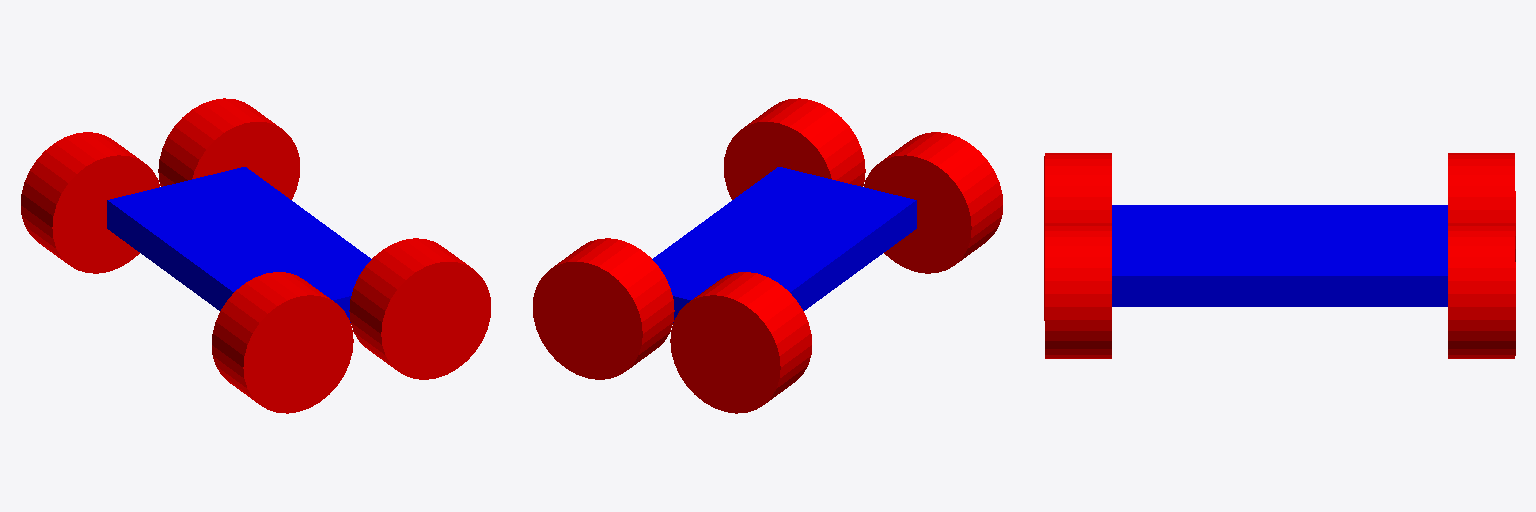
The robot description file, URDF, robot "wheeled_bot":
<?xml version="1.0"?>
<robot name="wheeled_bot">
	<material name="blue">
		<color rgba="0 0 1 1"/>
	</material>
	<material name="red">
		<color rgba="1 0 0 1"/>
	</material>
	<gazebo reference="base_link">
  		<material>Gazebo/Blue</material>
	</gazebo>
	<gazebo reference="forewheel1_link">
  		<material>Gazebo/Red</material>
	</gazebo>
	<gazebo reference="forewheel2_link">
  		<material>Gazebo/Red</material>
	</gazebo>
	<gazebo reference="backwheel1_link">
  		<material>Gazebo/Red</material>
	</gazebo>
	<gazebo reference="backwheel2_link">
 		 <material>Gazebo/Red</material>
	</gazebo>
	<link name="base_link">
		<visual>
		<geometry>
			<box size="0.5 1 0.1"/>
		</geometry>
		<origin rpy="0 0 0" xyz="0 0 0"/>
		<material name="blue"/>
		</visual>
		<collision>
		<geometry>
			<box size="0.5 1 0.1"/>
		</geometry>
		<material name="blue"/>
		</collision>
		 <inertial>
      			<mass value="5"/>
      			<inertia ixx="0.0395416666667" ixy="0" ixz="0" iyy="0.106208333333" iyz="0" izz="0.106208333333"/>
    		</inertial>
		
	</link>
	
	<link name="forewheel1_link">
		<visual>
		<geometry>
			<cylinder length="0.2" radius="0.2"/>
		</geometry>
		<material name="red"/>
		<origin xyz="0 0 0" rpy="1.57 1.57 0" />
		</visual>
		<collision>
		<geometry>
			<cylinder length="0.2" radius="0.2"/>
		</geometry>
		<material name="red"/>
		<origin xyz="0 0 0" rpy="1.57 1.57 0" />
		</collision>
		<inertial>
			<mass value="0.2"/>
			<inertia ixx="0.1333" ixy="0.0" ixz="0.0" iyy="0.1333" iyz="0.0" izz="0.2"/>
		</inertial>
	</link>
	
	<link name="forewheel2_link">
		<visual>
		<geometry>
			<cylinder length="0.2" radius="0.2"/>
		</geometry>
		<material name="red"/>
		<origin xyz="0 0 0" rpy="1.57 1.57 0" />
		</visual>
		<collision>
		<geometry>
			<cylinder length="0.2" radius="0.2"/>
		</geometry>
		<material name="red"/>
		<origin xyz="0 0 0" rpy="1.57 1.57 0" />
		</collision>
		<inertial>
			<mass value="0.2"/>
			<inertia ixx="0.1333" ixy="0.0" ixz="0.0" iyy="0.1333" iyz="0.0" izz="0.2"/>
		</inertial>
	</link>

	<link name="backwheel1_link">
		<visual>
		<geometry>
			<cylinder length="0.2" radius="0.2"/>
		</geometry>
		<material name="red"/>
		<origin xyz="0 0 0" rpy="1.57 1.57 0" />
		</visual>
		<collision>
		<geometry>
			<cylinder length="0.2" radius="0.2"/>
		</geometry>
		<material name="red"/>
		<origin xyz="0 0 0" rpy="1.57 1.57 0" />
		</collision>
		<inertial>
			<mass value="0.2"/>
			<inertia ixx="0.1333" ixy="0.0" ixz="0.0" iyy="0.1333" iyz="0.0" izz="0.2"/>
		</inertial>
	</link>

	<link name="backwheel2_link">
		<visual>
		<geometry>
			<cylinder length="0.2" radius="0.2"/>
		</geometry>
		<material name="red"/>
		<origin xyz="0 0 0" rpy="1.57 1.57 0" />
		</visual>
		<collision>
		<geometry>
			<cylinder length="0.2" radius="0.2"/>
		</geometry>
		<material name="red"/>
		<origin xyz="0 0 0" rpy="1.57 1.57 0" />
		</collision>
		<inertial>
			<mass value="0.2"/>
			<inertia ixx="0.1333" ixy="0.0" ixz="0.0" iyy="0.1333" iyz="0.0" izz="0.2"/>
		</inertial>
	</link>

	<joint name="basetof1" type="continuous">
		<parent link="base_link"/>
		<child link="forewheel1_link"/>
		<axis xyz="0 1 0" rpy="0 0 0"/>
		<origin xyz="-0.25 -0.6 0" rpy="0 0 0"/>
		<limit effort="10000" velocity="1000"/>
		<joint_properties damping="1.0" friction="1.0" />
	</joint>
	<joint name="basetof2" type="continuous">
		<parent link="base_link"/>
		<child link="forewheel2_link"/>
		<axis xyz="0 1 0" rpy="0 0 0"/>
		<origin xyz="0.25 -0.6 0" rpy="0 0 0"/>
		<limit effort="10000" velocity="1000"/>
		<joint_properties damping="1.0" friction="1.0" />
	</joint>
	<joint name="basetor1" type="continuous">
		<parent link="base_link"/>
		<child link="backwheel1_link"/>
		<axis xyz="0 1 0" rpy="0 0 0"/>
		<origin xyz="0.25 0.6 0" rpy="0 0 0"/>
		<limit effort="10000" velocity="1000"/>
		<joint_properties damping="1.0" friction="1.0" />
	</joint>
	<joint name="basetor2" type="continuous">
		<parent link="base_link"/>
		<child link="backwheel2_link"/>
		<axis xyz="0 1 0" rpy="0 0 0"/>
		<limit effort="10000" velocity="1000"/>
		<origin xyz="-0.25 0.6 0" rpy="0 0 0"/>
		<joint_properties damping="1.0" friction="1.0" />
	</joint>

<gazebo>
    <plugin filename="libgazebo_ros_diff_drive.so" name="differential_drive_controller">
      <alwaysOn>true</alwaysOn>
      <updateRate>20</updateRate>
      <leftJoint>basetor1</leftJoint>
      <rightJoint>basetof1</rightJoint>
      <leftJoint>basetor2</leftJoint>
      <rightJoint>basetof2</rightJoint>
      <wheelSeparation>1.2</wheelSeparation>
      <wheelDiameter>0.4</wheelDiameter>
      <torque>0.1</torque>
      <commandTopic>cmd_vel</commandTopic>
      <odometryTopic>odom</odometryTopic>
      <odometryFrame>odom</odometryFrame>
      <robotBaseFrame>base_link</robotBaseFrame>
    </plugin>
  </gazebo>
</robot>

--- Render facts (derived) ---
The picture shows the robot from 3 angles, left to right: view 1: azimuth 30°, elevation 25°; view 2: azimuth 150°, elevation 25°; view 3: azimuth 270°, elevation 25°; orthographic projection.
Robot: wheeled_bot — 5 links, 4 joints (4 continuous); root link base_link; default pose: every joint at zero.
Links seen in each view (by area): view 1: base_link, forewheel1_link, forewheel2_link, backwheel2_link, backwheel1_link; view 2: base_link, backwheel2_link, backwheel1_link, forewheel1_link, forewheel2_link; view 3: base_link, forewheel2_link, backwheel1_link, forewheel1_link, backwheel2_link.
Link boxes in pixels (x1,y1,x2,y2): base_link: [107, 167, 371, 322]; forewheel1_link: [212, 272, 353, 413]; forewheel2_link: [349, 238, 490, 379]; backwheel2_link: [21, 132, 159, 273]; backwheel1_link: [158, 98, 299, 199]; base_link: [652, 167, 916, 322]; backwheel2_link: [670, 272, 811, 413]; backwheel1_link: [533, 238, 674, 379]; forewheel1_link: [864, 132, 1002, 273]; forewheel2_link: [724, 98, 865, 199]; base_link: [1112, 205, 1447, 306]; forewheel2_link: [1044, 224, 1111, 358]; backwheel1_link: [1448, 224, 1515, 358]; forewheel1_link: [1044, 153, 1111, 226]; backwheel2_link: [1448, 153, 1515, 261].
Size in the robot's own frame: 0.9002 by 1.4 by 0.4 metres.
Geometry: primitives only (box / cylinder / sphere), no mesh files.
